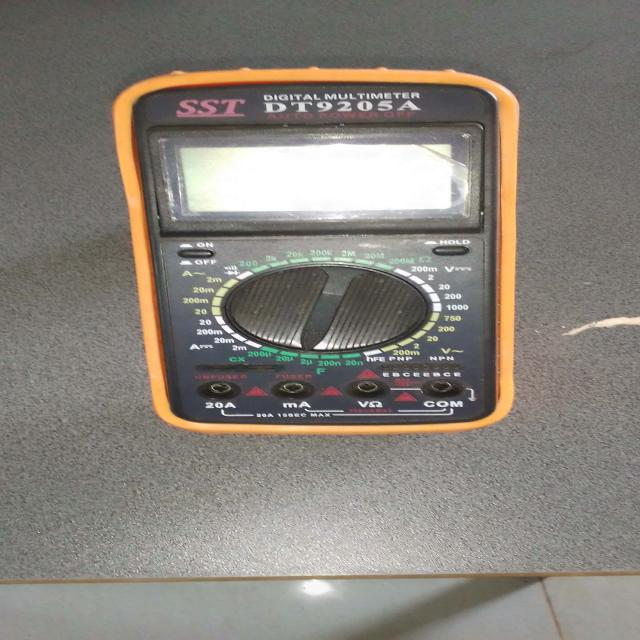Digital Multimeter: (94, 63, 548, 445)
